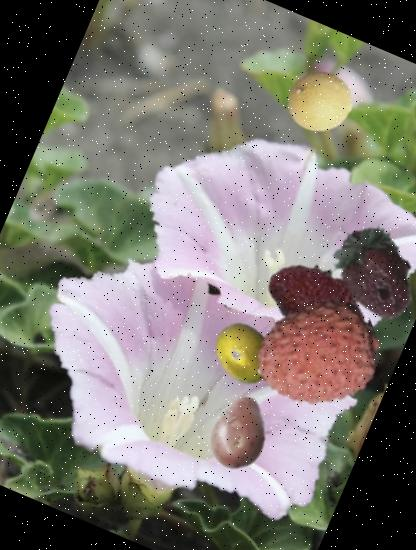Cantaloupe: (278, 60, 362, 145)
Lychee: (236, 275, 397, 436)
Maracuja: (202, 311, 288, 398)
Potato: (188, 384, 286, 482)
Strawberry: (246, 233, 388, 375), (306, 206, 416, 340)
